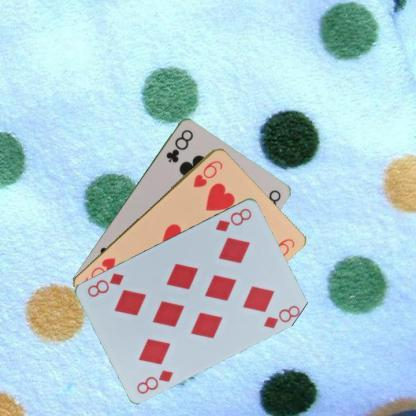6h: (190, 157, 224, 190)
8c: (163, 126, 195, 164)
8d: (134, 366, 175, 396), (212, 205, 254, 233)
